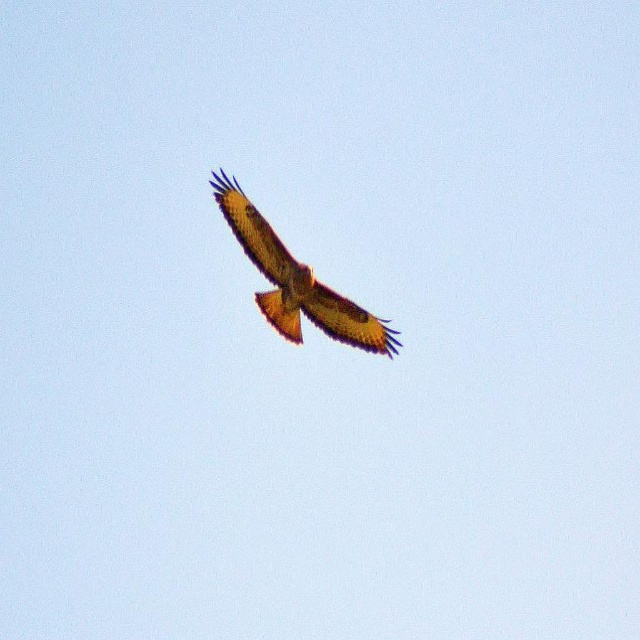Eagle: (210, 162, 405, 369)
